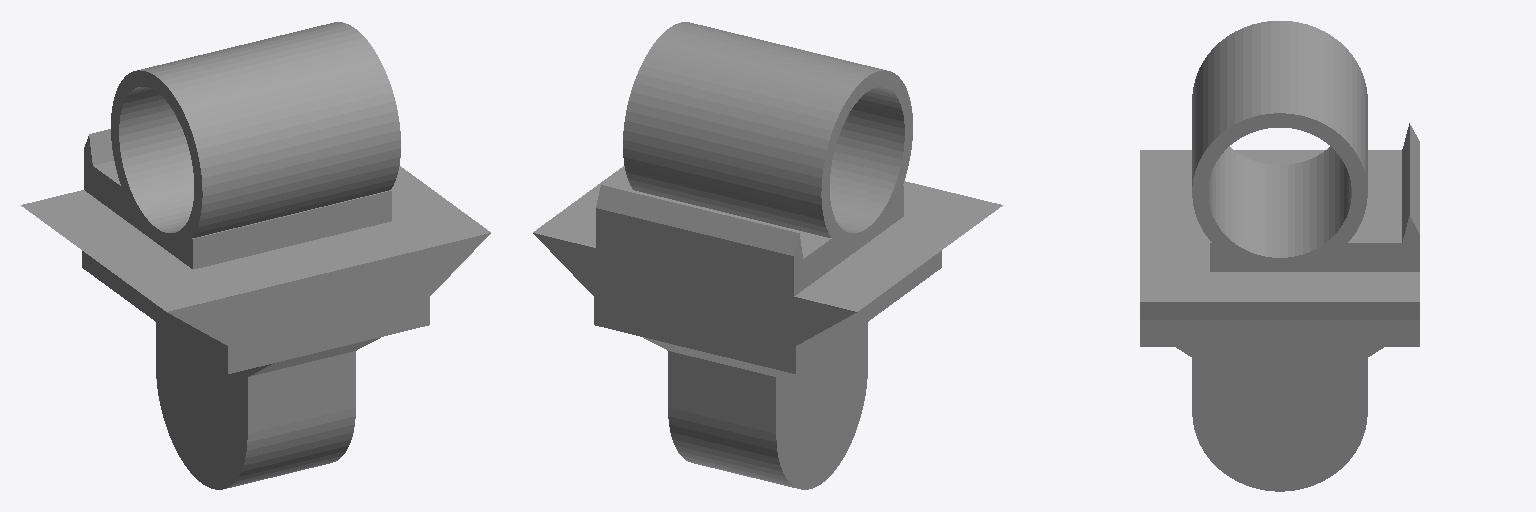
robot.urdf — torso_assembly:
<!--URDF generated by ONSHAPE BY PTC INC, 1.215-->
<robot name="torso_assembly">
    <link name="part_2">
        <inertial>
            <mass value="2.996" />
            <origin xyz="0.0589806 0.0116765 0.108266" rpy="0 -0 0" />
            <inertia ixx="0.0270255" ixy="0" ixz="0" iyy="0.0334115" iyz="-0.00118593" izz="0.0242411" />
        </inertial>
        <visual>
            <origin xyz="0.0589806 1.38778e-17 -0.0699562" rpy="0 -0 0" />
            <geometry>
                <mesh filename="package://torso_assembly/meshes/Part_2.stl" scale="1 1 1" />
            </geometry>
            <material name="0.917647_0.917647_0.917647_0.000000_0.000000">
                <color rgba="0.917647 0.917647 0.917647 1" />
            </material>
        </visual>
    </link>
    <link name="pelvis">
        <inertial>
            <mass value="4.24496" />
            <origin xyz="3.25647e-18 0.00247762 -0.00036569" rpy="0 -0 0" />
            <inertia ixx="0.0142013" ixy="0" ixz="0" iyy="0.0134283" iyz="-0.000383277" izz="0.0100864" />
        </inertial>
        <visual>
            <origin xyz="0 0 0" rpy="0 -0 0" />
            <geometry>
                <mesh filename="package://torso_assembly/meshes/Pelvis.stl" scale="1 1 1" />
            </geometry>
            <material name="0.647059_0.647059_0.647059_0.000000_0.000000">
                <color rgba="0.647059 0.647059 0.647059 1" />
            </material>
        </visual>
    </link>
    <link name="root" />
    <joint name="hanging_node_to_root_joint" type="fixed">
        <origin xyz="-0.0414369 0.013591 -0.00683823" rpy="0 -0 0" />
        <axis xyz="0 0 1" />
        <parent link="root" />
        <child link="pelvis" />
    </joint>
    <joint name="revolute_1" type="continuous">
        <origin xyz="-0.0589806 -1.38778e-17 0.0699562" rpy="0 -0 0" />
        <axis xyz="1 0 0" />
        <parent link="pelvis" />
        <child link="part_2" />
    </joint>
</robot>

--- Render facts (derived) ---
The picture shows the robot from 3 angles, left to right: view 1: azimuth 30°, elevation 25°; view 2: azimuth 150°, elevation 25°; view 3: azimuth 270°, elevation 25°; orthographic projection.
Robot: torso_assembly — 3 links, 2 joints (1 continuous, 1 fixed); root link root; default pose: every joint at zero.
Links seen in each view (by area): view 1: pelvis; view 2: pelvis; view 3: pelvis.
Boxes of the visible links, bbox=[...] form: pelvis: bbox=[21, 22, 490, 489]; pelvis: bbox=[533, 22, 1002, 489]; pelvis: bbox=[1140, 21, 1419, 491].
Size in the robot's own frame: 0.18 by 0.14 by 0.2209 metres.
1 mesh visuals loaded from 2 distinct referenced files (1 binary STL); not drawn: 1 (reference not matched to a file when rendering).
